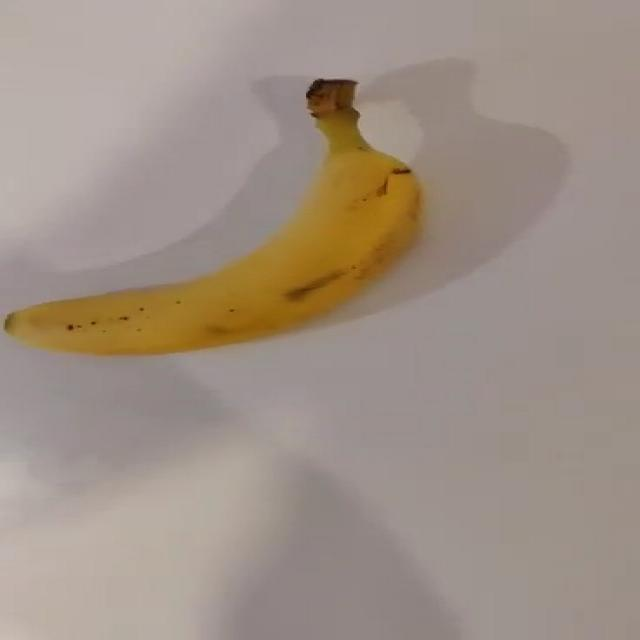Banana: (3, 77, 423, 357)
